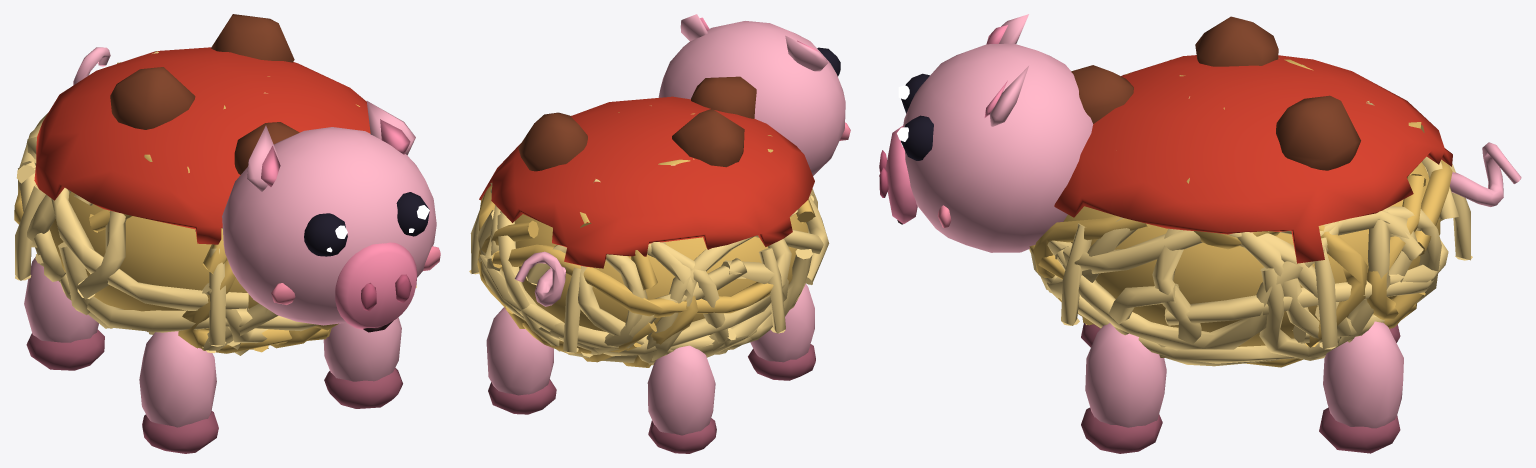
The model's file is pilot_gris_spagetti_lav.glb.
3 renders of one model, left to right at view 1: azimuth 30°, elevation 25°; view 2: azimuth 150°, elevation 25°; view 3: azimuth 270°, elevation 25°, orthographic. The views are drawn at different scales.
Visible parts, largest first — view 1: kropp, hode, bein_vf, bein_hf, bein_vb, hale; view 2: kropp, hode, bein_vb, bein_hb, bein_vf, hale; view 3: kropp, hode, bein_hb, bein_hf, hale.
Part boxes in pixels (box(x1,y1,x2,y2)): kropp: box(14, 14, 416, 355); hode: box(222, 101, 440, 332); bein_vf: box(139, 331, 218, 453); bein_hf: box(323, 317, 402, 408); bein_vb: box(24, 256, 104, 370); hale: box(73, 47, 110, 85); kropp: box(469, 76, 829, 367); hode: box(658, 14, 850, 175); bein_vb: box(647, 345, 716, 453); bein_hb: box(486, 307, 556, 414); bein_vf: box(748, 283, 815, 380); hale: box(514, 251, 565, 306); kropp: box(1029, 16, 1472, 367); hode: box(879, 14, 1093, 252); bein_hb: box(1319, 321, 1403, 453); bein_hf: box(1081, 323, 1166, 453); hale: box(1450, 142, 1521, 206).
Size of the model in its own units: 1.01 by 0.9718 by 1.57.
